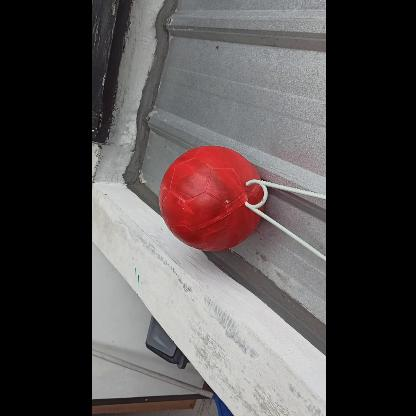red_ball: (157, 145, 263, 251)
